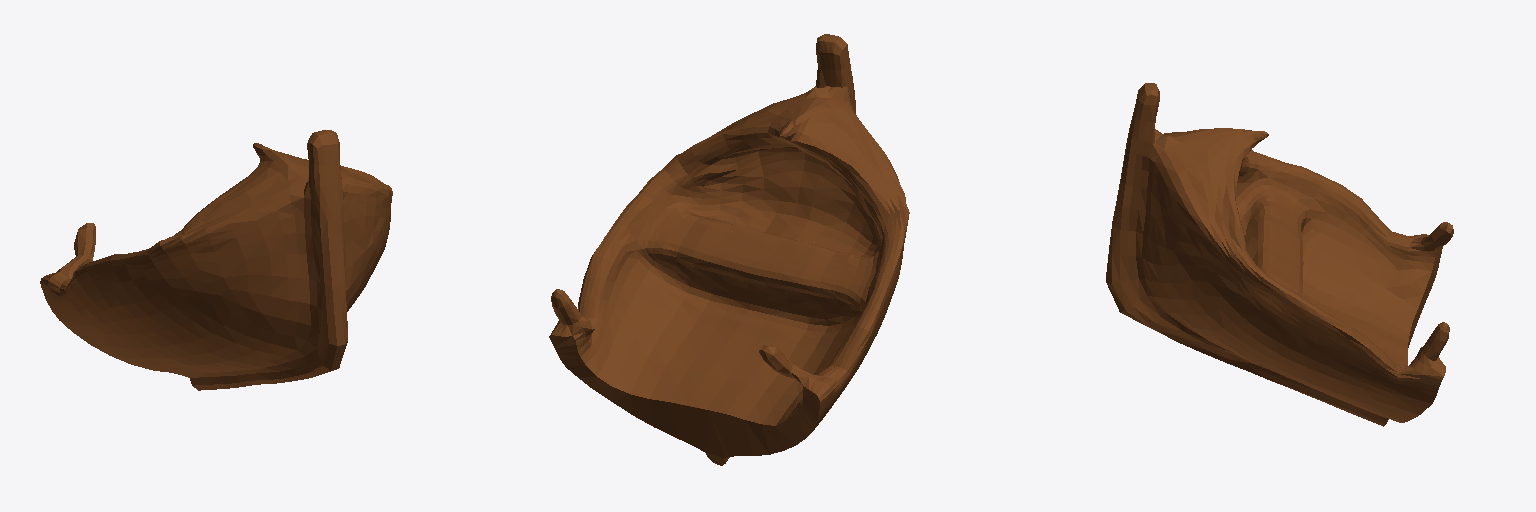
3 renders of one model, left to right at view 1: azimuth 30°, elevation 25°; view 2: azimuth 150°, elevation 25°; view 3: azimuth 270°, elevation 25°, orthographic.
Visible parts, largest first — view 1: barco_roto:BOTE_ROTO; view 2: barco_roto:BOTE_ROTO; view 3: barco_roto:BOTE_ROTO.
Boxes of the visible parts, x1,y1,x2,y2 form: barco_roto:BOTE_ROTO: [40, 130, 392, 390]; barco_roto:BOTE_ROTO: [549, 34, 909, 465]; barco_roto:BOTE_ROTO: [1106, 83, 1453, 426].
Size of the model in its own units: 3.45 by 3.97 by 3.67.
1 materials, 1 textured.